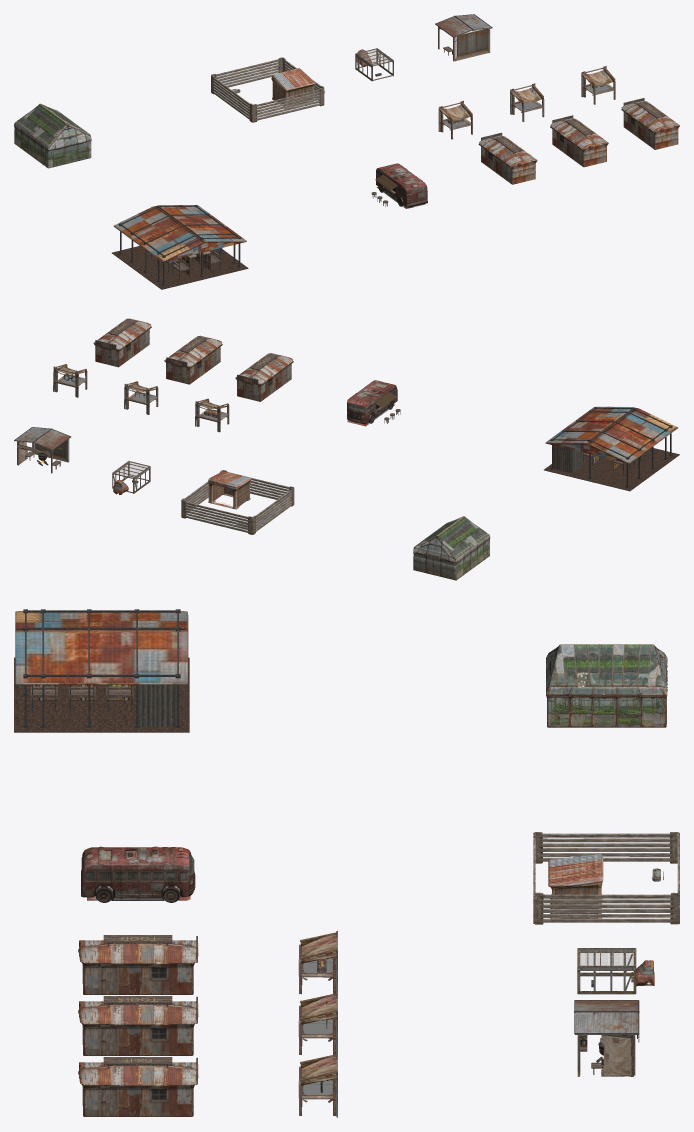
Rendered from food.glb.
The picture shows the model from 3 angles, top to bottom: view 1: azimuth 30°, elevation 25°; view 2: azimuth 150°, elevation 25°; view 3: azimuth 270°, elevation 25°; orthographic projection. The views are drawn at different scales.
Visible parts, largest first — view 1: market-hall:body, greenhouse:body, market-hall:earth-floor, shopfront-c:body, shopfront-a:body, shopfront-b:body, canteen:body, goat-pen:fence-rear, goat-pen:shelter, goat-pen:fence-front, soup-kitchen:full-rear-wall, goat-pen:fence-left (+1 smaller); view 2: market-hall:body, greenhouse:body, market-hall:earth-floor, shopfront-a:body, shopfront-b:body, shopfront-c:body, canteen:body, goat-pen:fence-front, goat-pen:shelter, goat-pen:fence-left, soup-kitchen:pitched-tin-roof, goat-pen:fence-rear; view 3: market-hall:body, greenhouse:body, shopfront-c:body, shopfront-a:body, shopfront-b:body, canteen:body, market-hall:earth-floor, goat-pen:fence-right, goat-pen:fence-left, goat-pen:shelter, soup-kitchen:pitched-tin-roof, market-hall:store-side-4.18 (+3 smaller).
Boxes of the visible parts, x1,y1,x2,y2 form: market-hall:body: (113, 205, 246, 262); greenhouse:body: (14, 103, 91, 168); market-hall:earth-floor: (112, 246, 248, 289); shopfront-c:body: (621, 100, 679, 149); shopfront-a:body: (478, 135, 537, 184); shopfront-b:body: (550, 118, 608, 167); canteen:body: (376, 163, 427, 208); goat-pen:fence-rear: (252, 87, 324, 122); goat-pen:shelter: (271, 68, 315, 108); goat-pen:fence-front: (211, 57, 282, 87); soup-kitchen:full-rear-wall: (453, 28, 490, 61); goat-pen:fence-left: (211, 75, 252, 122); market-hall:body: (545, 406, 677, 463); greenhouse:body: (413, 516, 490, 580); market-hall:earth-floor: (544, 448, 679, 491); shopfront-a:body: (235, 353, 293, 401); shopfront-b:body: (164, 335, 222, 384); shopfront-c:body: (93, 318, 151, 367); canteen:body: (347, 380, 397, 426); goat-pen:fence-front: (181, 500, 252, 534); goat-pen:shelter: (208, 471, 251, 509); goat-pen:fence-left: (252, 487, 294, 534); soup-kitchen:pitched-tin-roof: (14, 427, 70, 450); goat-pen:fence-rear: (223, 470, 293, 499); market-hall:body: (15, 611, 188, 684); greenhouse:body: (546, 644, 667, 727); shopfront-c:body: (78, 1062, 198, 1116); shopfront-a:body: (78, 940, 198, 994); shopfront-b:body: (78, 1001, 198, 1055); canteen:body: (81, 846, 195, 900); market-hall:earth-floor: (14, 657, 189, 732); goat-pen:fence-right: (534, 892, 678, 924); goat-pen:fence-left: (535, 832, 678, 863); goat-pen:shelter: (548, 853, 603, 918); soup-kitchen:pitched-tin-roof: (575, 1000, 638, 1034); market-hall:store-side-4.18: (139, 684, 176, 726).
Bounding box in the file's own units: 60.43 × 4.21 × 36.94.
Materials: 53 (44 with a texture image).
